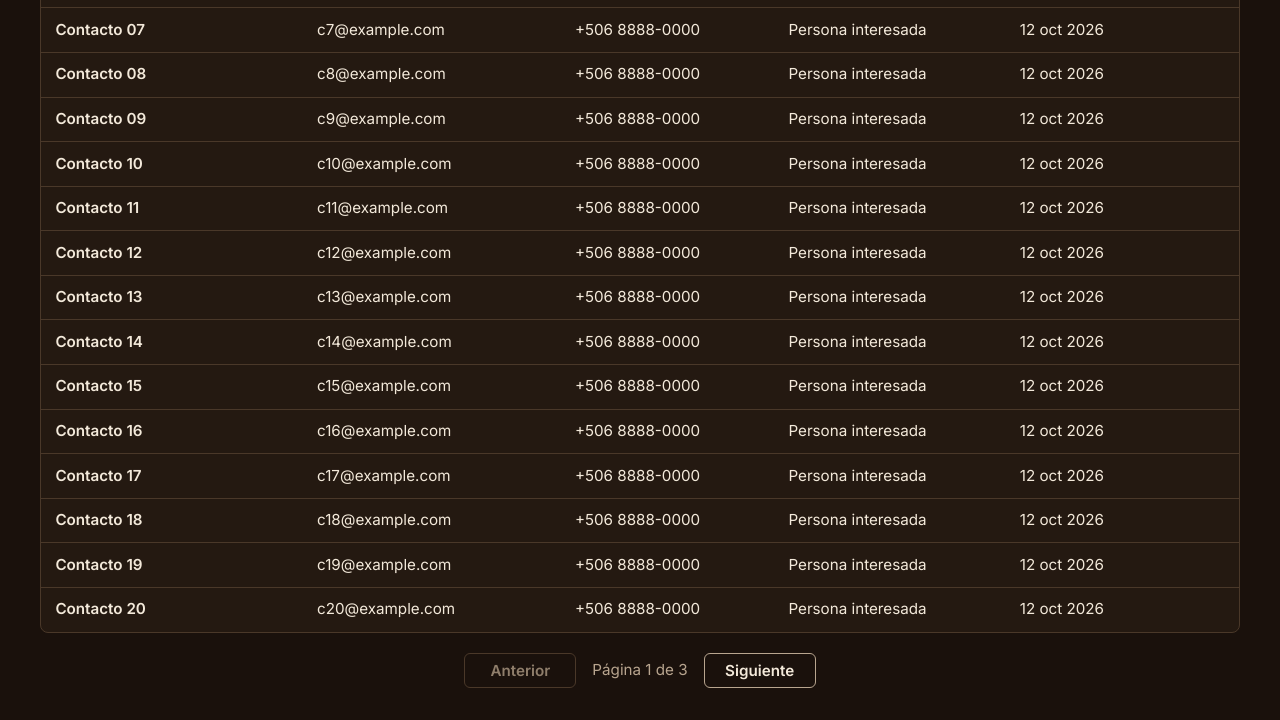
Test: HU-204 Ver la lista de contactos › 20 contactos por página, con "Anterior", "Siguiente" y "Página X de Y"
(page scrolled)
Expected: the text "Página 1 de 3" is shown, [592,659,688,682]
Expected: the button "Anterior" is disabled, [464,652,576,688]
Click the button "Siguiente". click: {"x": 760, "y": 670}
box: [704,652,816,688]
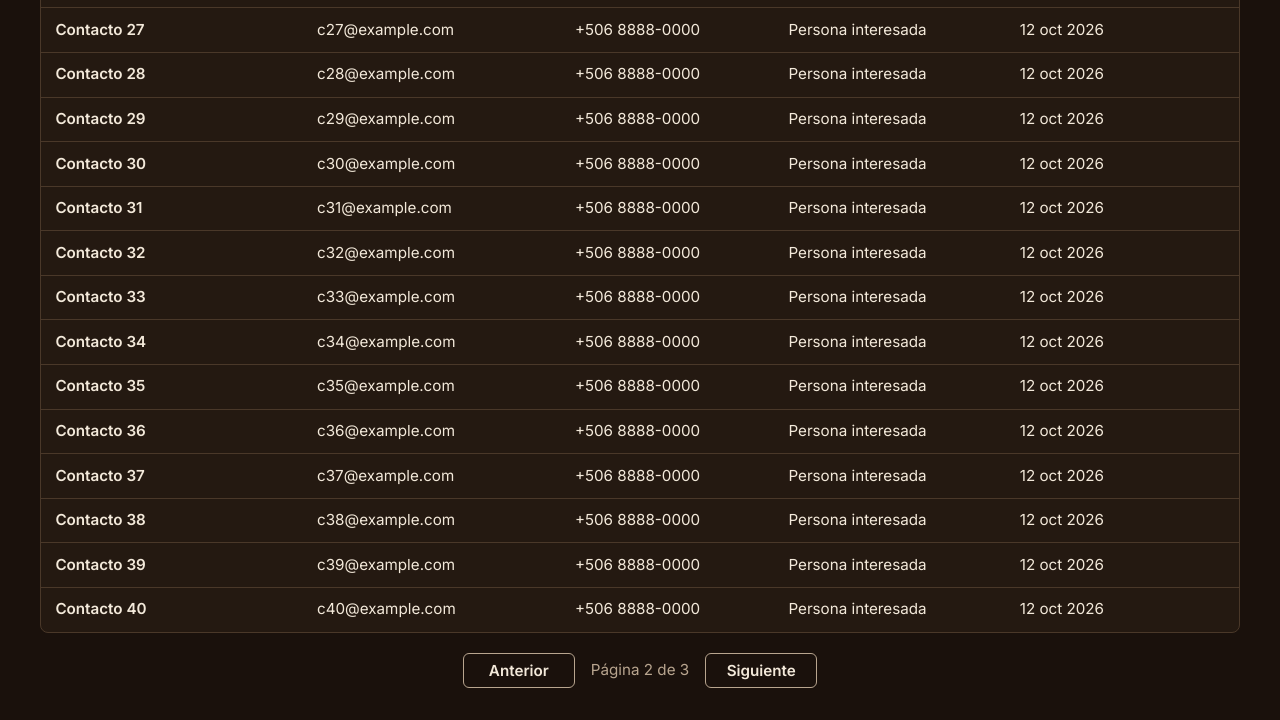
Expected: the text "Página 2 de 3" is shown, [591,659,689,682]
Click the button "Siguiente". click: {"x": 761, "y": 670}
box: [705,652,817,688]
(page scrolled)
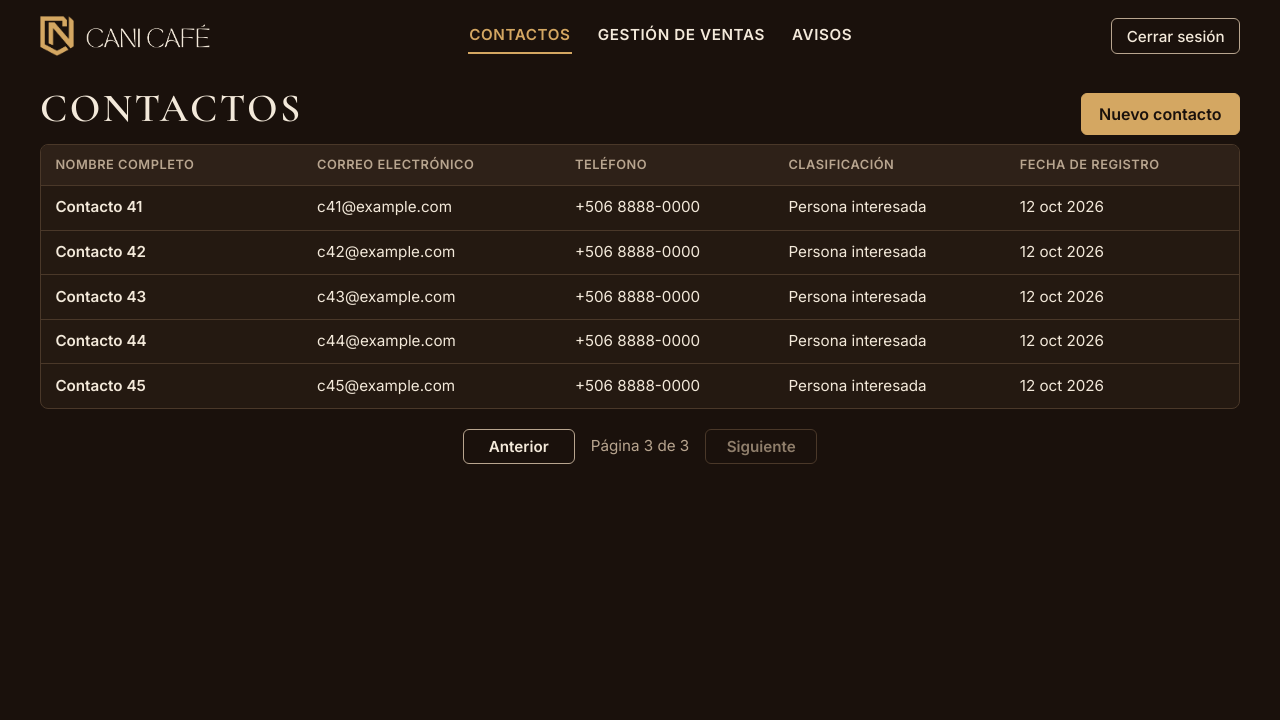
Expected: the text "Página 3 de 3" is shown, [591,435,689,458]
Expected: the button "Siguiente" is disabled, [705,429,817,464]
Click the button "Anterior". click: {"x": 519, "y": 447}
box: [463,429,575,464]
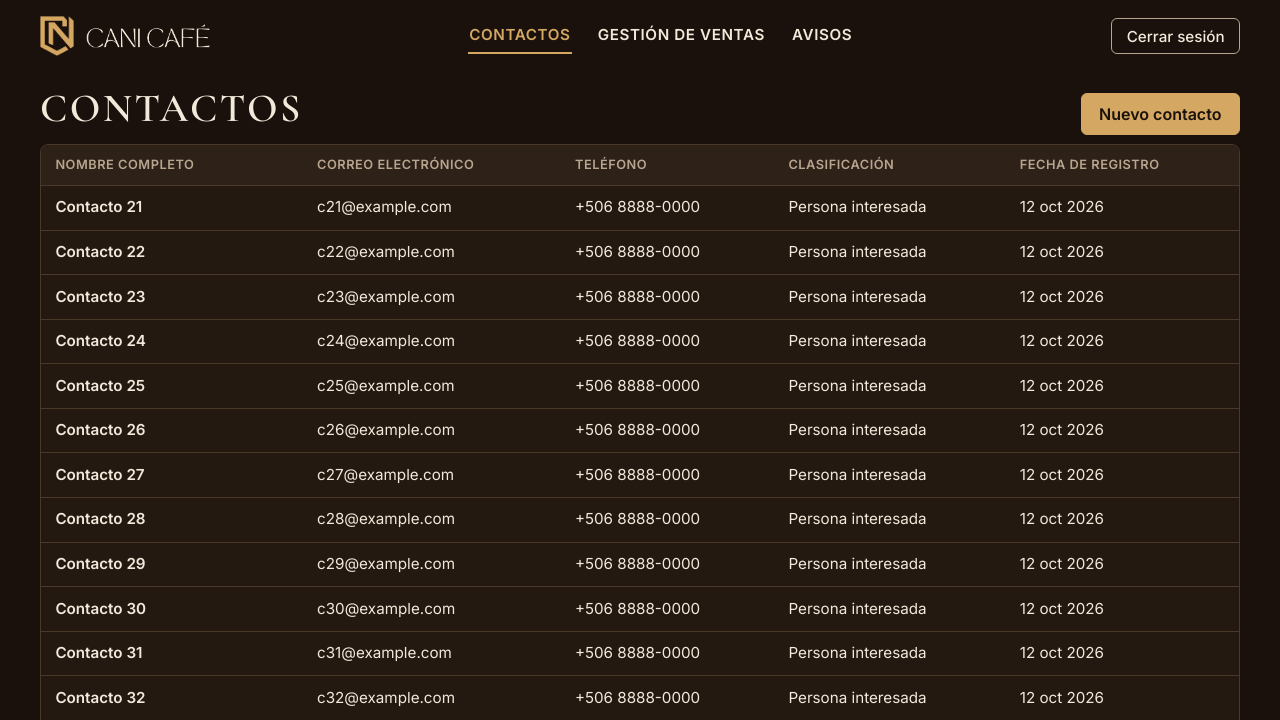
Expected: the cell "Contacto 21" is shown, [41,186,303,230]
